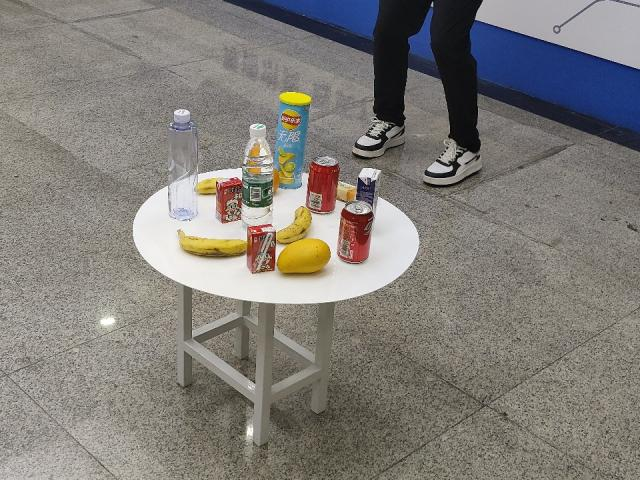Canned_drinks: (338, 202, 375, 265), (310, 157, 333, 212)
bottle: (163, 109, 202, 225), (241, 123, 275, 223)
drink_box: (214, 175, 243, 221), (248, 222, 275, 269), (359, 168, 379, 200)
